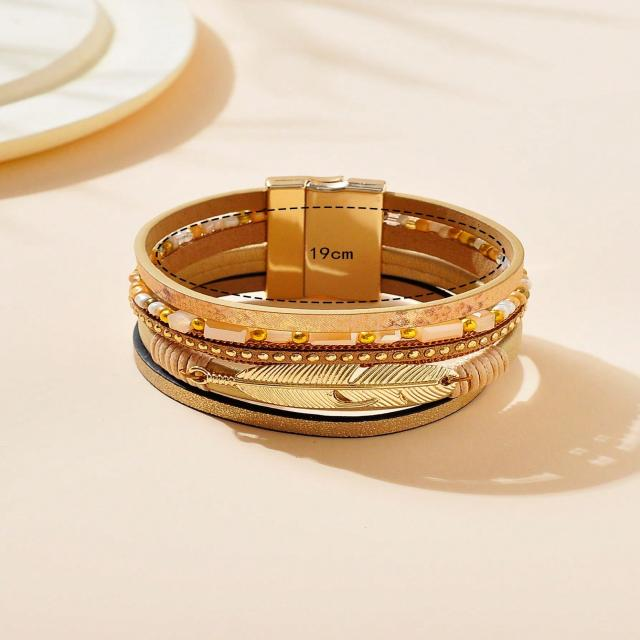bracelet: (118, 124, 601, 546)
